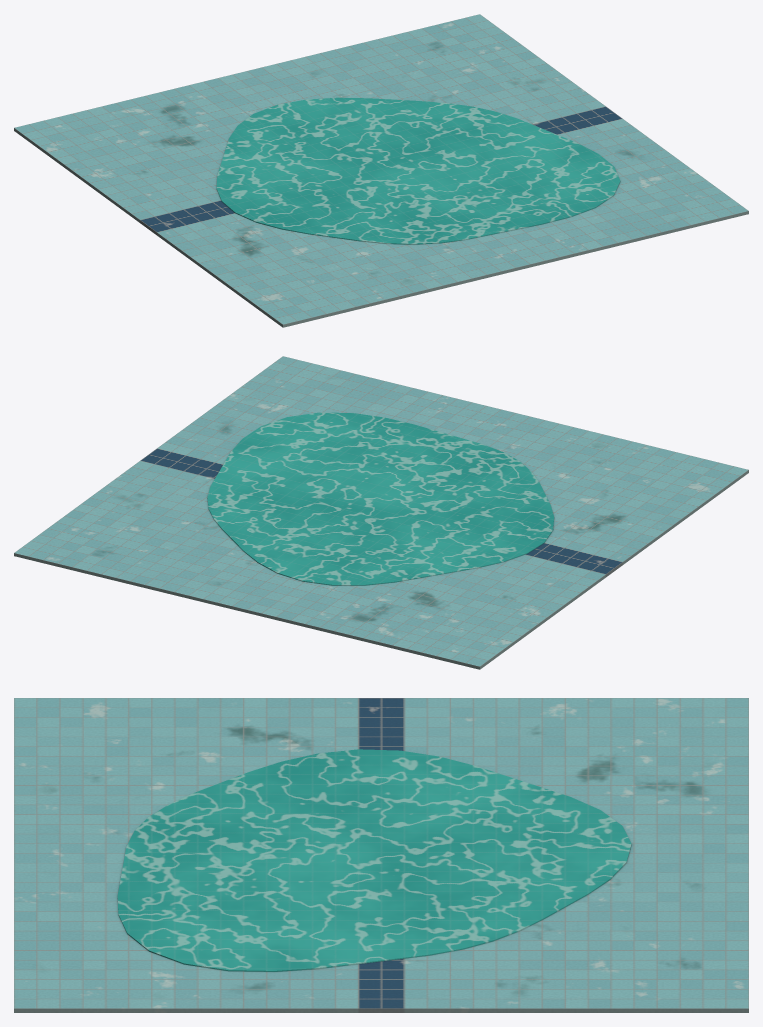
File: floor_pool.fbx
The picture shows the model from 3 angles, top to bottom: view 1: azimuth 30°, elevation 25°; view 2: azimuth 150°, elevation 25°; view 3: azimuth 270°, elevation 25°; orthographic projection. The views are drawn at different scales.
Visible parts, largest first — view 1: Body; view 2: Body; view 3: Body.
Boxes of the visible parts, x1,y1,x2,y2 form: Body: [14, 14, 748, 327]; Body: [14, 356, 748, 669]; Body: [14, 698, 748, 1012].
Bounding box in the file's own units: 32 × 0.25 × 32.
Materials: 1 (1 with a texture image).
